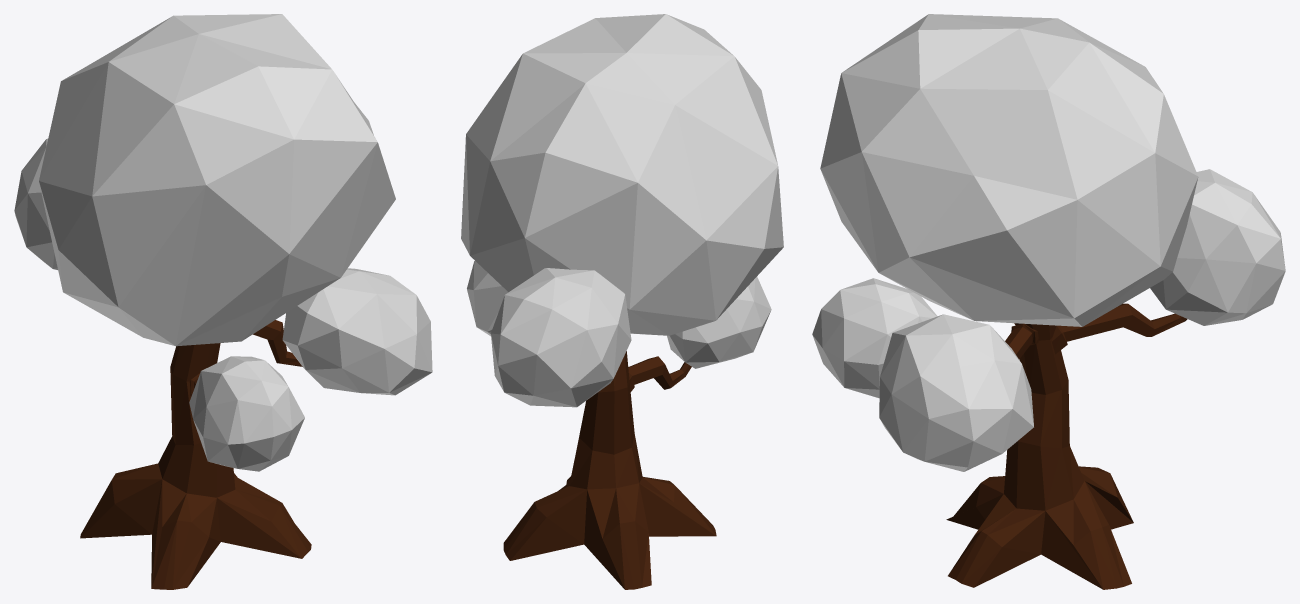
File: Tree4.FBX
3 views of the same model, side by side, from view 1: azimuth 30°, elevation 25°; view 2: azimuth 150°, elevation 25°; view 3: azimuth 270°, elevation 25° (orthographic). The views are drawn at different scales.
Parts seen in each view (by area): view 1: GeoSphere002, Cylinder013; view 2: GeoSphere002, Cylinder013; view 3: GeoSphere002, Cylinder013.
Boxes of the visible parts, x1,y1,x2,y2 form: GeoSphere002: [14, 14, 432, 471]; Cylinder013: [80, 320, 311, 589]; GeoSphere002: [461, 14, 783, 407]; Cylinder013: [503, 351, 716, 589]; GeoSphere002: [812, 14, 1285, 471]; Cylinder013: [946, 303, 1187, 589].
Bounding box in the file's own units: 194 × 287 × 235.
